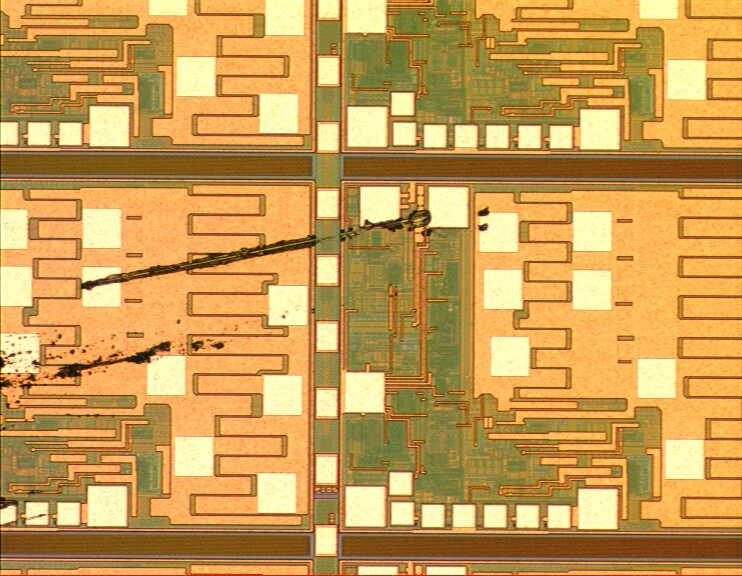SCRATCH: (1, 202, 504, 530)
